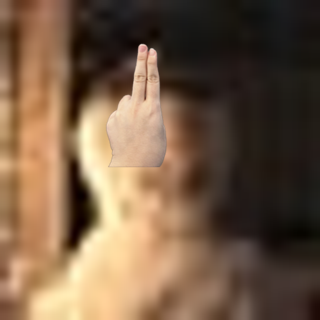DHAVE: (102, 38, 170, 167)
